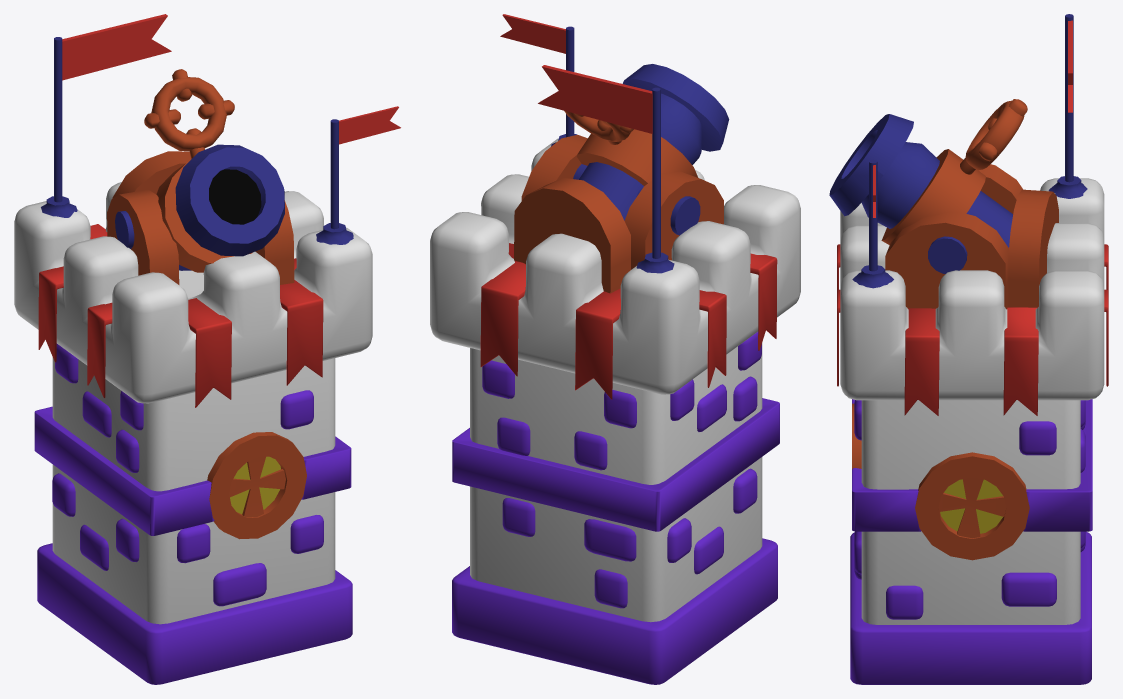
Rendered from Tower_2.fbx.
The picture shows the model from 3 angles, left to right: view 1: azimuth 30°, elevation 25°; view 2: azimuth 150°, elevation 25°; view 3: azimuth 270°, elevation 25°; orthographic projection. The views are drawn at different scales.
Visible parts, largest first — view 1: Tower 2.001; view 2: Tower 2.001; view 3: Tower 2.001.
Boxes of the visible parts, x1,y1,x2,y2 form: Tower 2.001: [14, 14, 400, 684]; Tower 2.001: [430, 14, 800, 684]; Tower 2.001: [829, 14, 1108, 684].
Size of the model in its own units: 888 by 1708 by 749.
